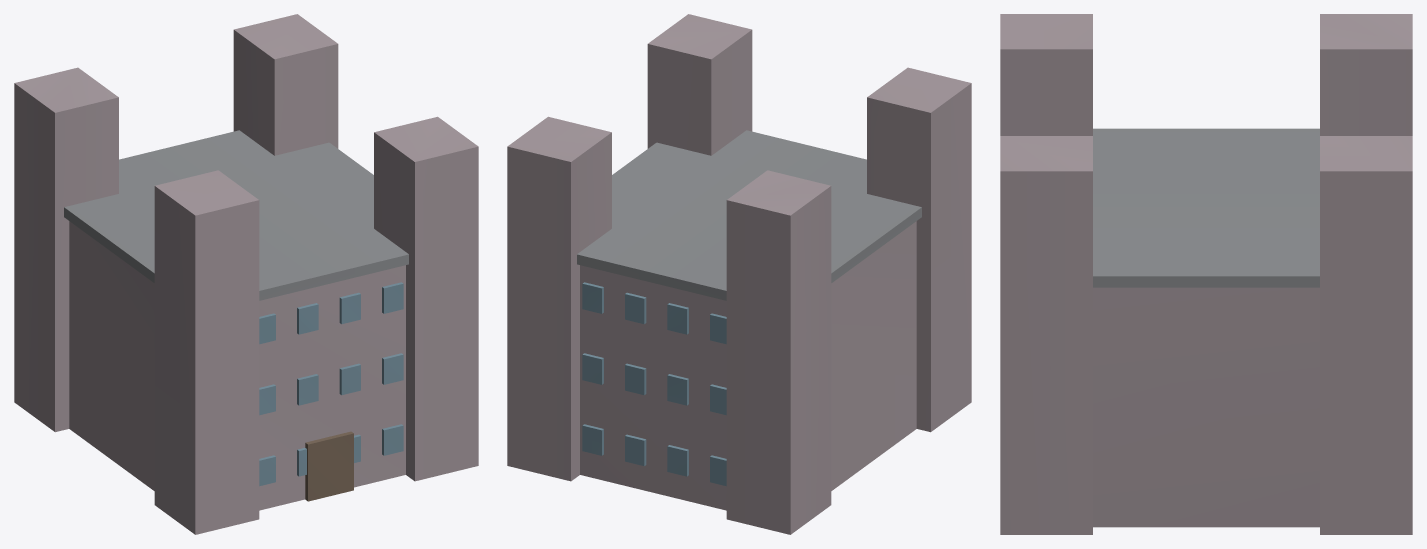
Rendered from castle-04.glb.
3 renders of one model, left to right at view 1: azimuth 30°, elevation 25°; view 2: azimuth 150°, elevation 25°; view 3: azimuth 270°, elevation 25°, orthographic. The views are drawn at different scales.
Visible parts, largest first — view 1: world; view 2: world; view 3: world.
Boxes of the visible parts, x1=… form: world: x1=14, y1=14, x2=478, y2=534; world: x1=507, y1=14, x2=971, y2=534; world: x1=1000, y1=14, x2=1412, y2=534.
Bounding box in the file's own units: 2.08 × 2.24 × 2.3.
